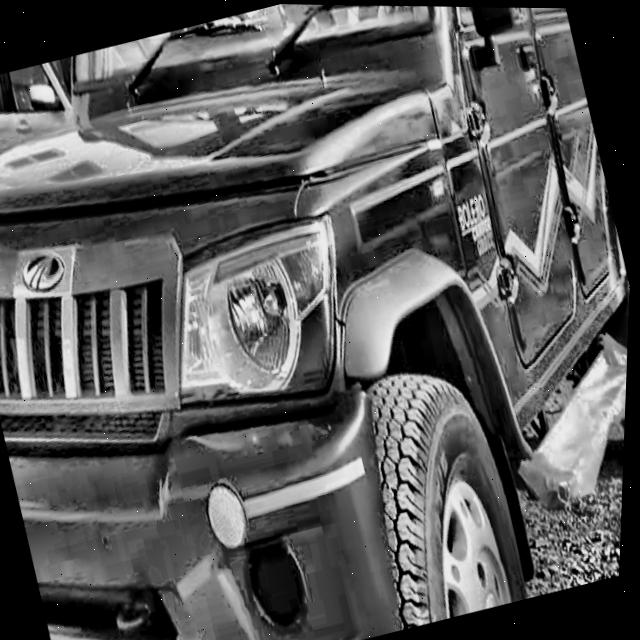light_vehicle: (0, 0, 640, 640), (0, 67, 42, 160)
